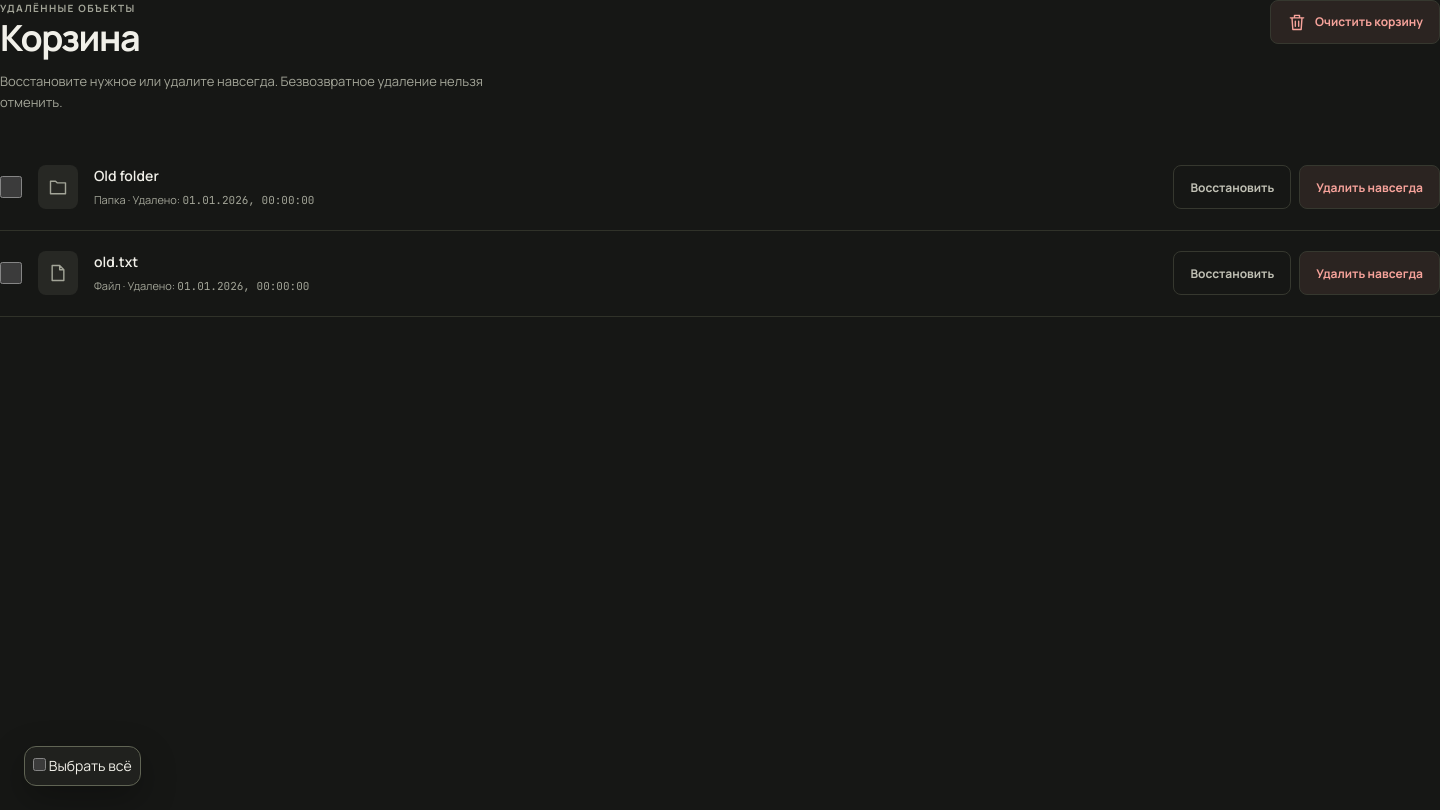
Scenario: TrashPage › lists, restores, and permanently deletes with confirmation and refetch
Click the button with aria-label "Восстановить old.txt": [1232, 273] box 1174,251 -> 1291,295
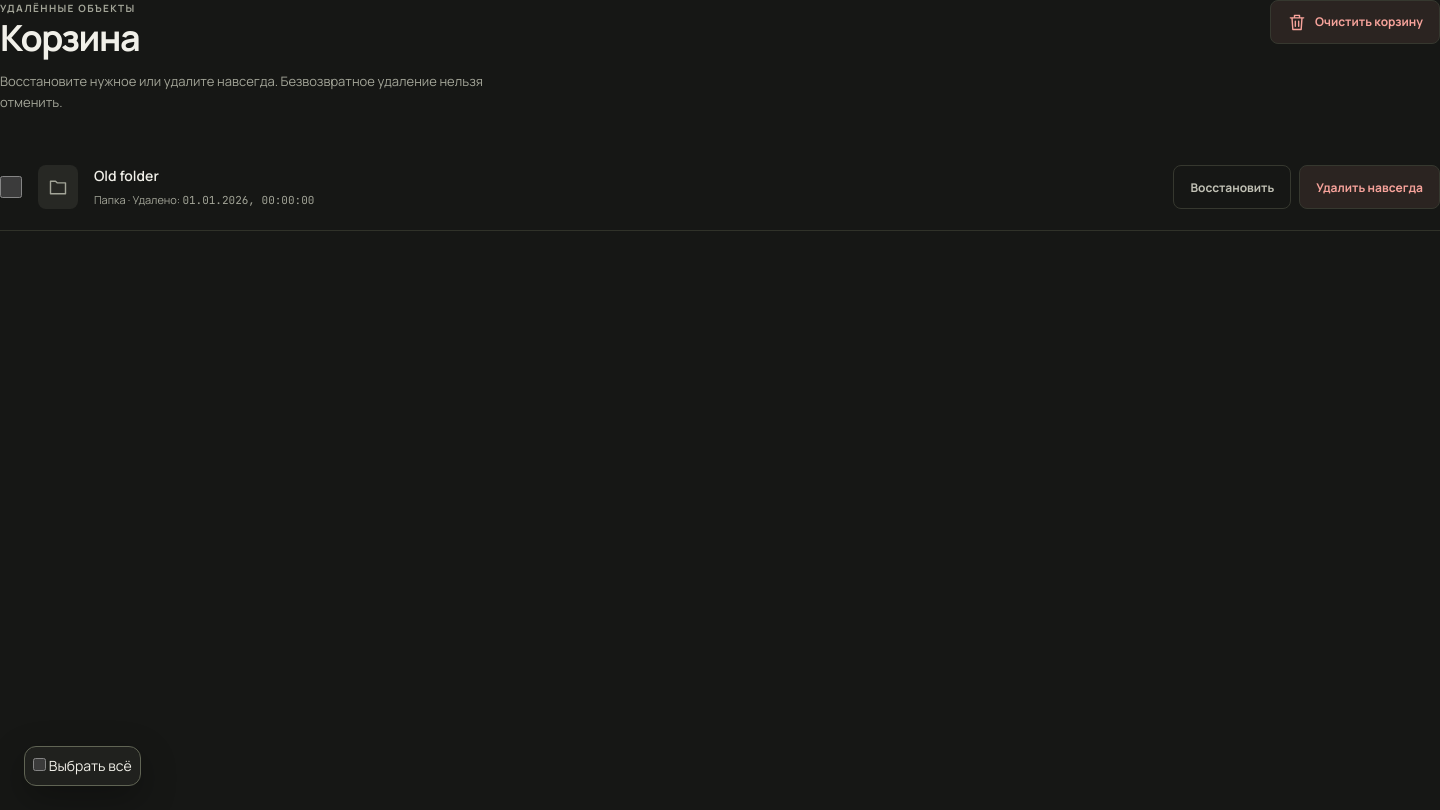
Now the heading "old.txt" is gone
Click the button with aria-label "Удалить Old folder навсегда": [1370, 187] box 1299,165 -> 1439,209
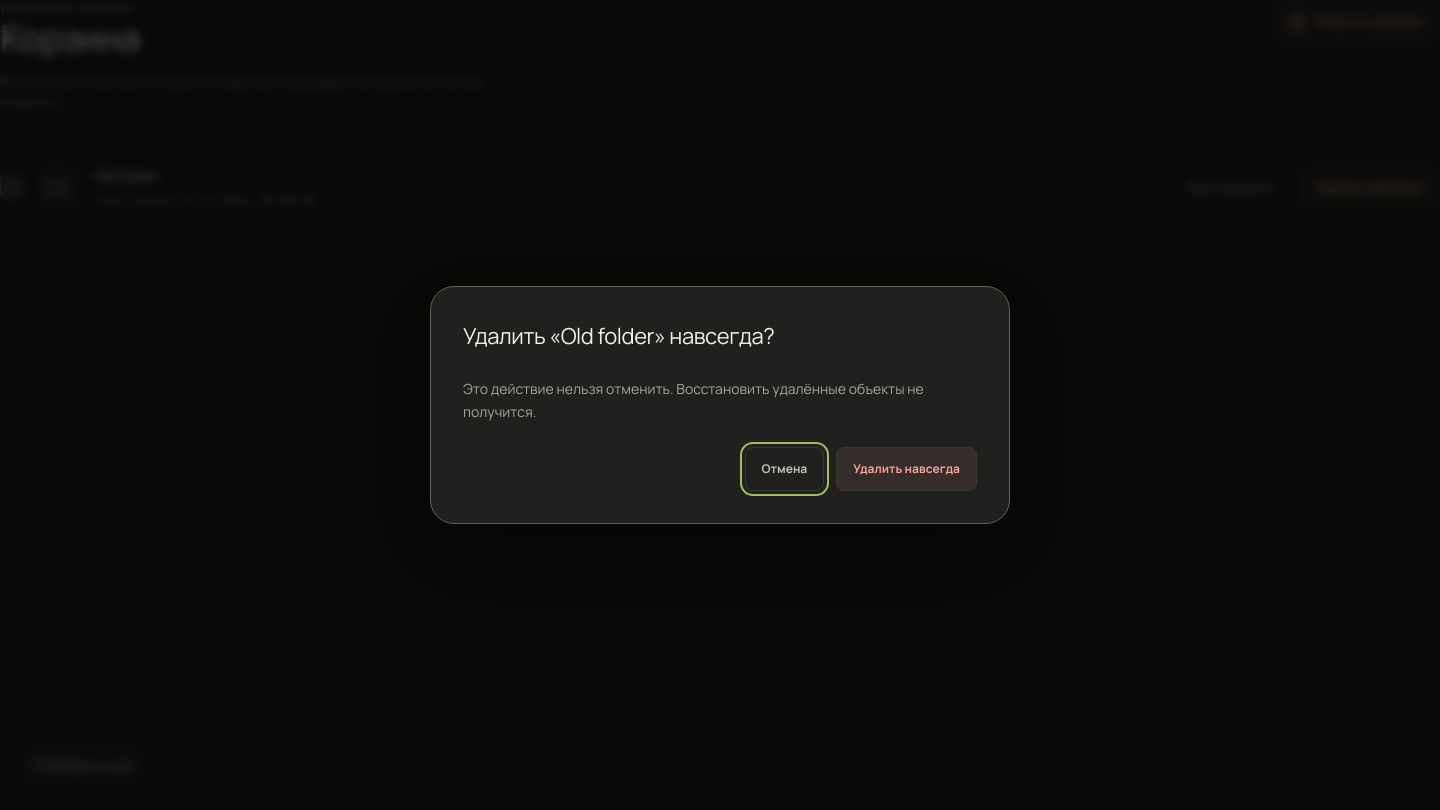
Now the dialog "Удалить «Old folder» навсегда?" is shown
Click the button "Удалить навсегда": [907, 469] box 836,447 -> 977,491
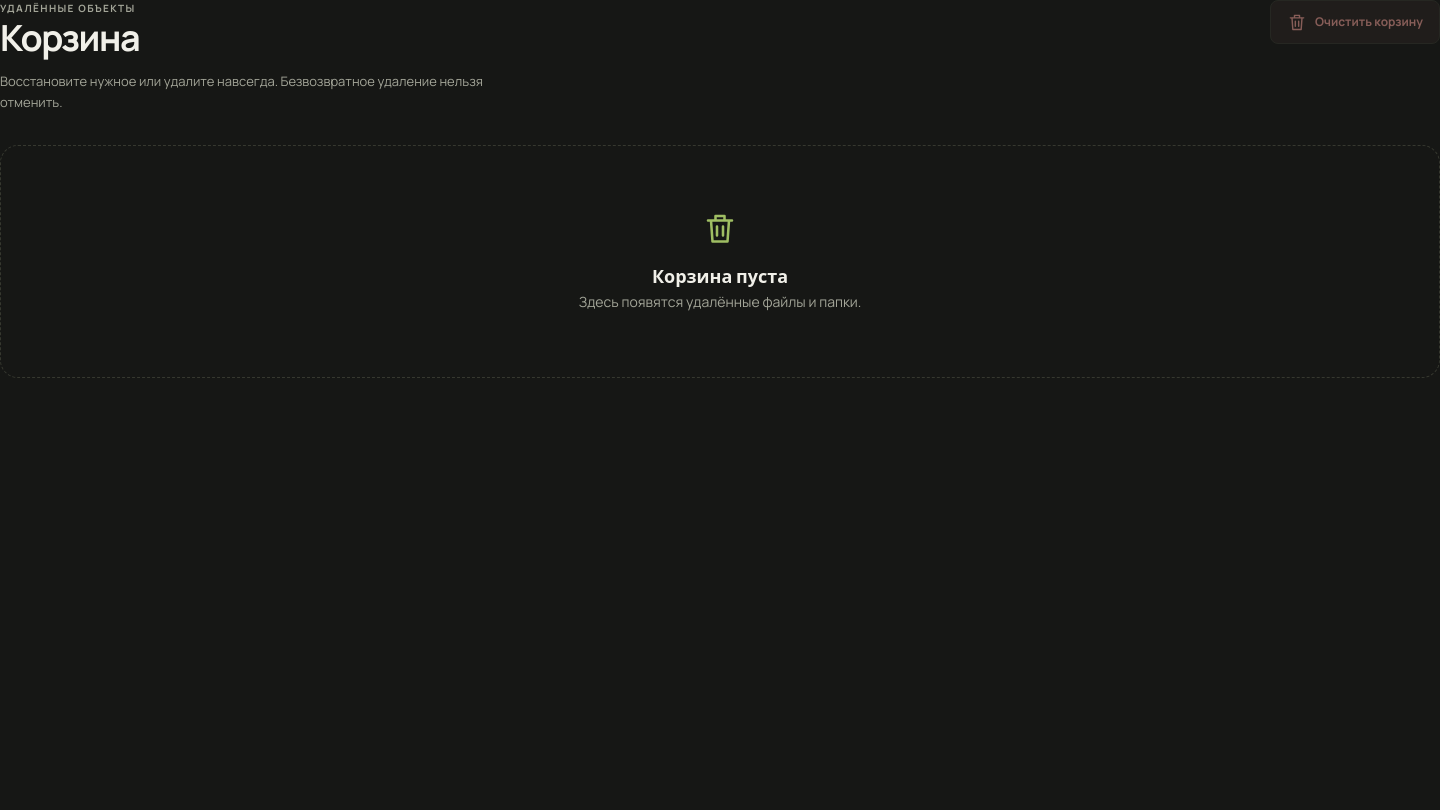
Now the heading "Корзина пуста" is shown, box 652,264 -> 788,288
